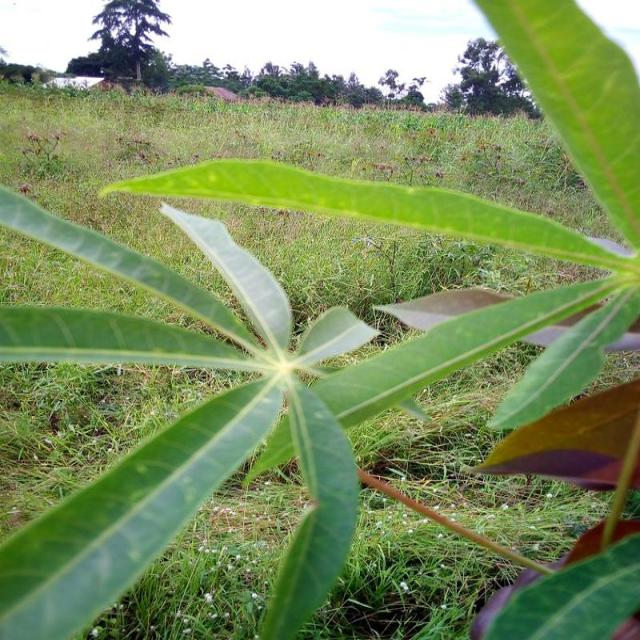cassava leaf: (1, 1, 638, 638), (0, 372, 284, 638), (97, 156, 634, 270)
